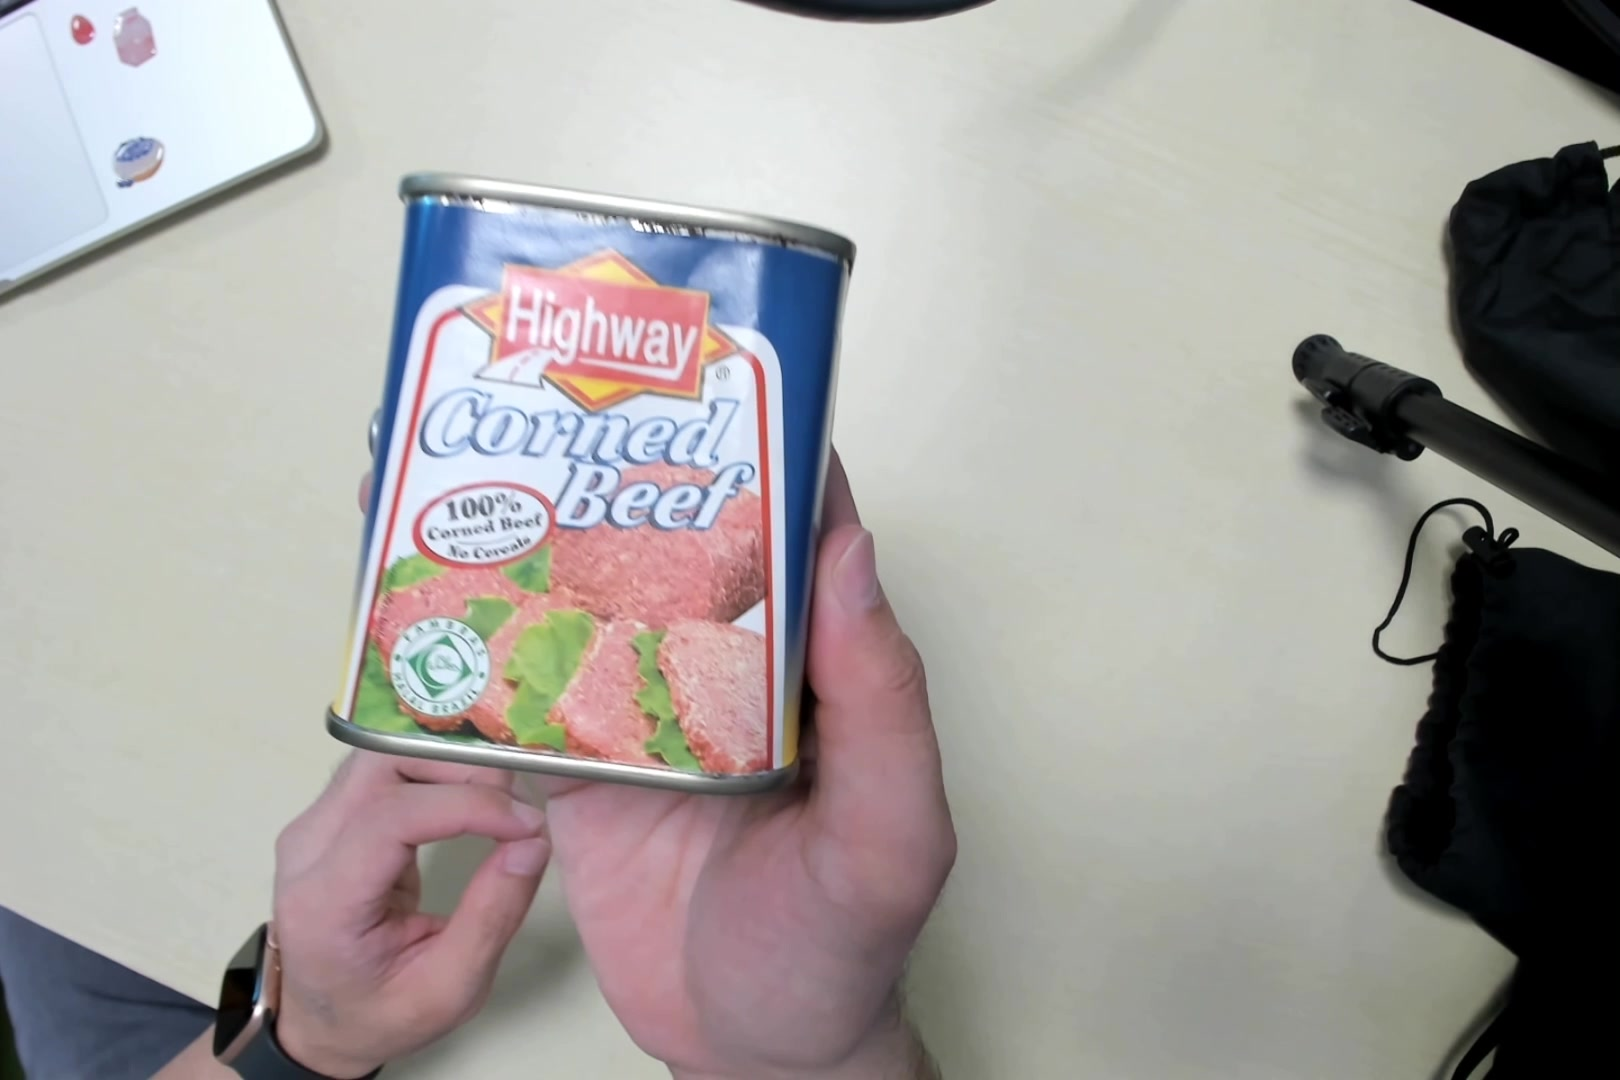CannedBeefOtherMeats_300-399g_Halal_NonHealthy: (340, 176, 817, 781)
